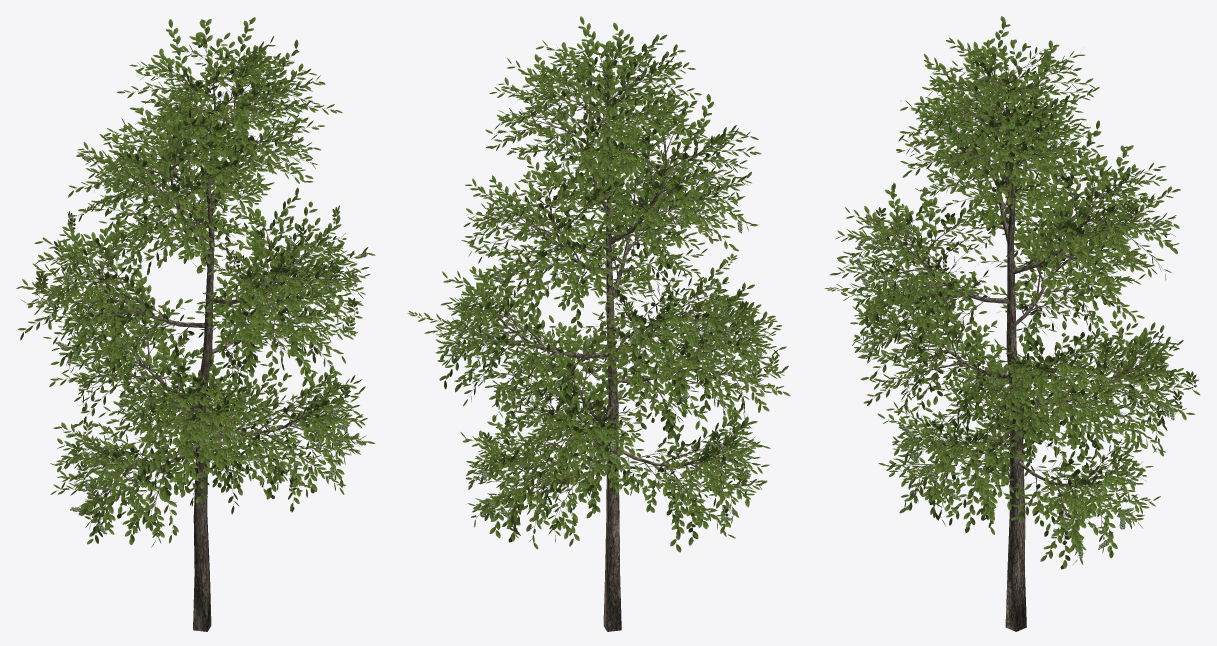
File: tree.fbx
3 views of the same model, side by side, from view 1: azimuth 30°, elevation 25°; view 2: azimuth 150°, elevation 25°; view 3: azimuth 270°, elevation 25° (orthographic).
Parts seen in each view (by area): view 1: leaves, tree, flowers, fruits; view 2: leaves, tree, flowers, fruits; view 3: leaves, tree, flowers, fruits.
Part boxes in pixels (x1,y1,x2,y2): leaves: [16, 17, 375, 547]; tree: [29, 24, 361, 631]; flowers: [35, 114, 362, 521]; fruits: [48, 154, 367, 534]; leaves: [418, 16, 790, 552]; tree: [434, 34, 775, 631]; flowers: [407, 128, 780, 534]; fruits: [450, 163, 762, 521]; leaves: [830, 16, 1200, 569]; tree: [842, 30, 1185, 631]; flowers: [824, 123, 1196, 540]; fruits: [856, 81, 1174, 559].
Size of the model in its own units: 1116 by 1934 by 1130.
Materials: 5 (5 with a texture image).
